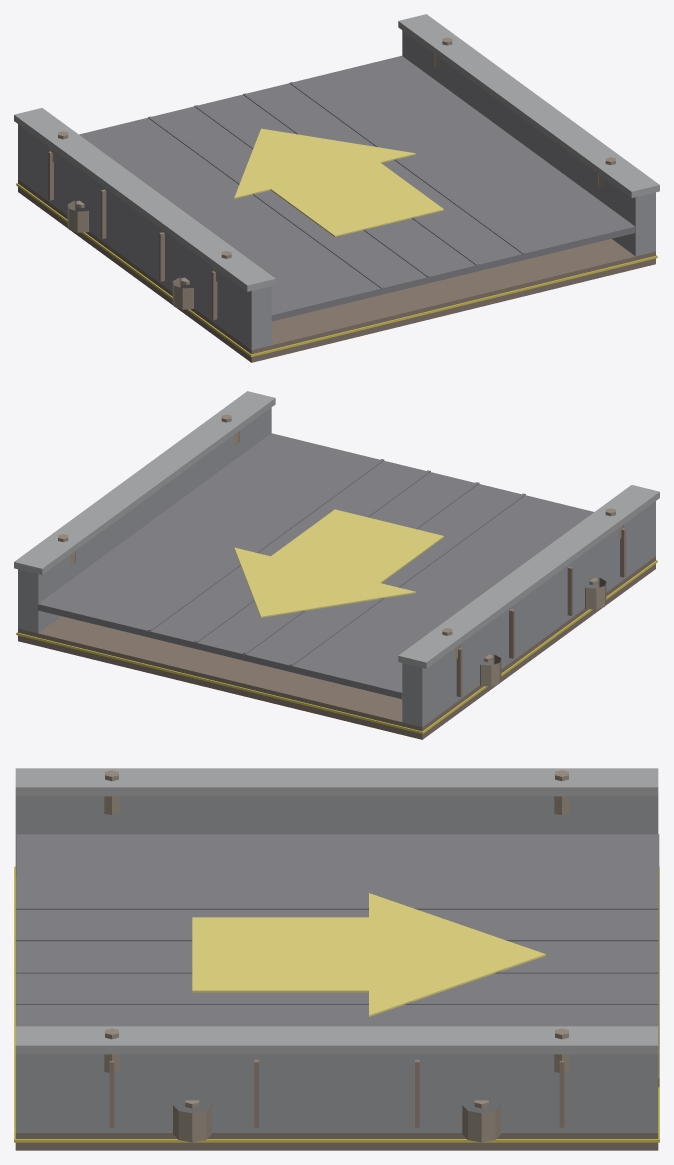
Rendered from conveyor_flat.glb.
3 views of the same model, one above another, from view 1: azimuth 30°, elevation 25°; view 2: azimuth 150°, elevation 25°; view 3: azimuth 270°, elevation 25° (orthographic). The views are drawn at different scales.
Parts seen in each view (by area): view 1: BeltSurface, BasePlate, Arrow_0, Wall_left, WallCap_right, WallCap_left, Wall_right, HazardStripe, BeltGroove_y0, BeltGroove_y3, Bolt_left_2, Bolt_left_3 (+2 smaller); view 2: BeltSurface, BasePlate, Arrow_0, Wall_left, WallCap_left, WallCap_right, Wall_right, HazardStripe, BeltGroove_y0, BeltGroove_y3, Bolt_left_3, Bolt_left_2 (+2 smaller); view 3: BeltSurface, Wall_right, Arrow_0, Wall_left, WallCap_left, WallCap_right, BasePlate, HazardStripe, BeltGroove_y0, BeltGroove_y3, BeltGroove_y2, BeltGroove_y1 (+2 smaller).
Part boxes in pixels (x1,y1,x2,y2): BeltSurface: (79,55,635,321); BasePlate: (18,179,655,362); Arrow_0: (234,128,443,236); Wall_left: (18,124,271,350); WallCap_right: (398,14,659,197); WallCap_left: (14,108,275,291); Wall_right: (402,30,655,256); HazardStripe: (16,183,657,357); BeltGroove_y0: (148,116,384,288); BeltGroove_y3: (289,82,525,254); Bolt_left_2: (172,277,193,309); Bolt_left_3: (67,200,88,232); BeltSurface: (38,433,593,699); BasePlate: (18,556,655,739); Arrow_0: (234,509,443,617); Wall_left: (402,501,655,727); WallCap_left: (398,485,659,668); WallCap_right: (14,391,275,574); Wall_right: (18,407,271,633); HazardStripe: (16,560,657,734); BeltGroove_y0: (289,493,525,665); BeltGroove_y3: (148,459,384,631); Bolt_left_3: (480,654,501,686); Bolt_left_2: (585,577,606,609); BeltSurface: (16,834,659,1087); Wall_right: (15,1054,658,1132); Arrow_0: (192,893,545,1016); Wall_left: (15,796,658,874); WallCap_left: (15,768,658,796); WallCap_right: (15,1026,658,1054); BasePlate: (15,875,658,1150); HazardStripe: (14,866,659,1142); BeltGroove_y0: (15,906,658,909); BeltGroove_y3: (15,1002,658,1004); BeltGroove_y2: (15,970,658,973); BeltGroove_y1: (15,938,658,941).
Bounding box in the file's own units: 1.06 × 0.1925 × 1.
